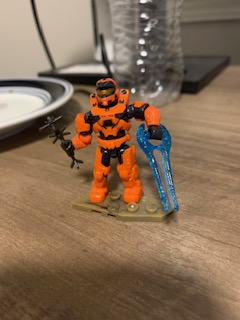spartan: (62, 78, 163, 209)
